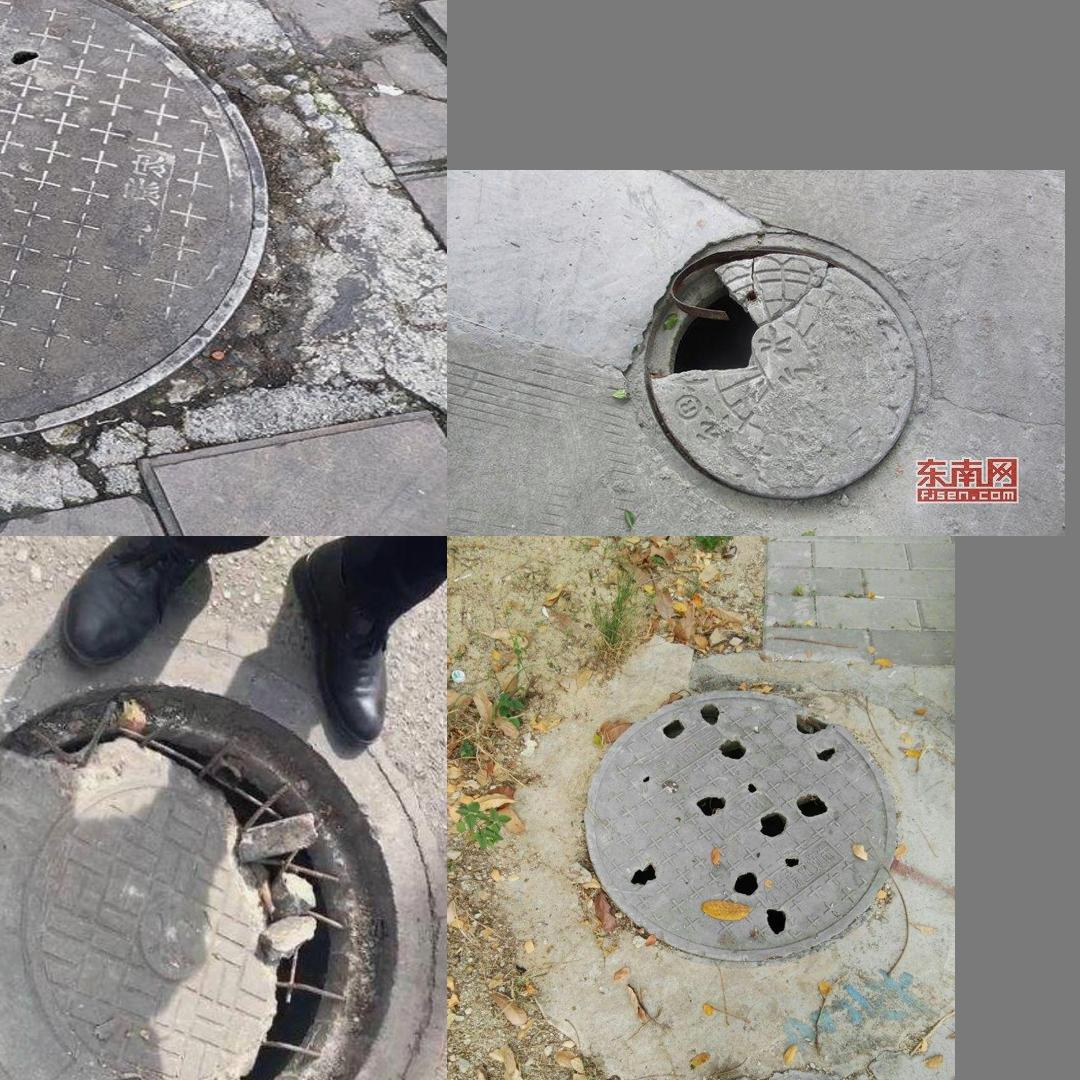broke: (0, 643, 426, 1080), (0, 0, 271, 441), (614, 217, 944, 526), (583, 689, 897, 961)
